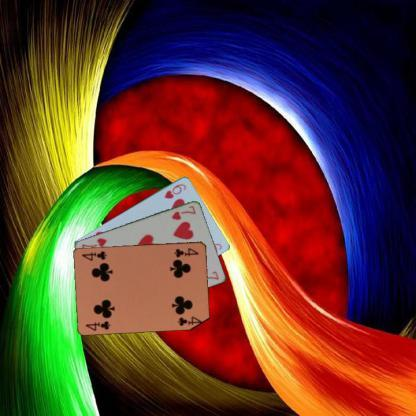4c: (83, 318, 112, 332), (172, 245, 200, 259)
6h: (162, 181, 188, 200)
7h: (169, 202, 197, 221)
